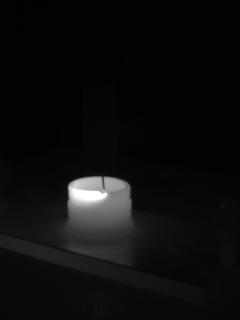tip_wire_left: (86, 168, 105, 193)
tip_wire_right: (102, 164, 119, 192)
